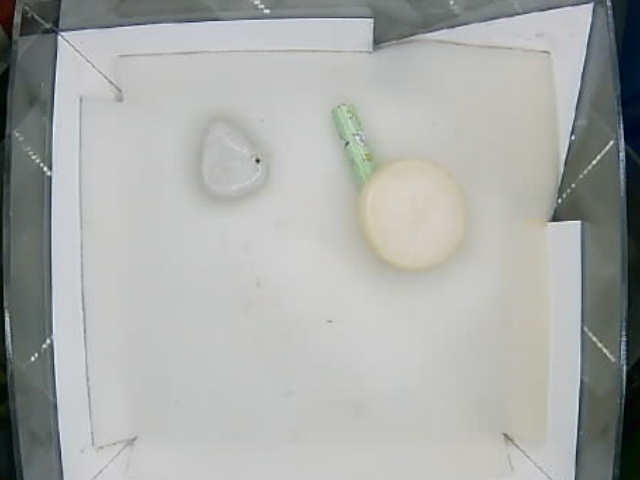Battery: (330, 103, 375, 189)
Mooli: (351, 155, 466, 276)
Pebble: (196, 112, 269, 203)
